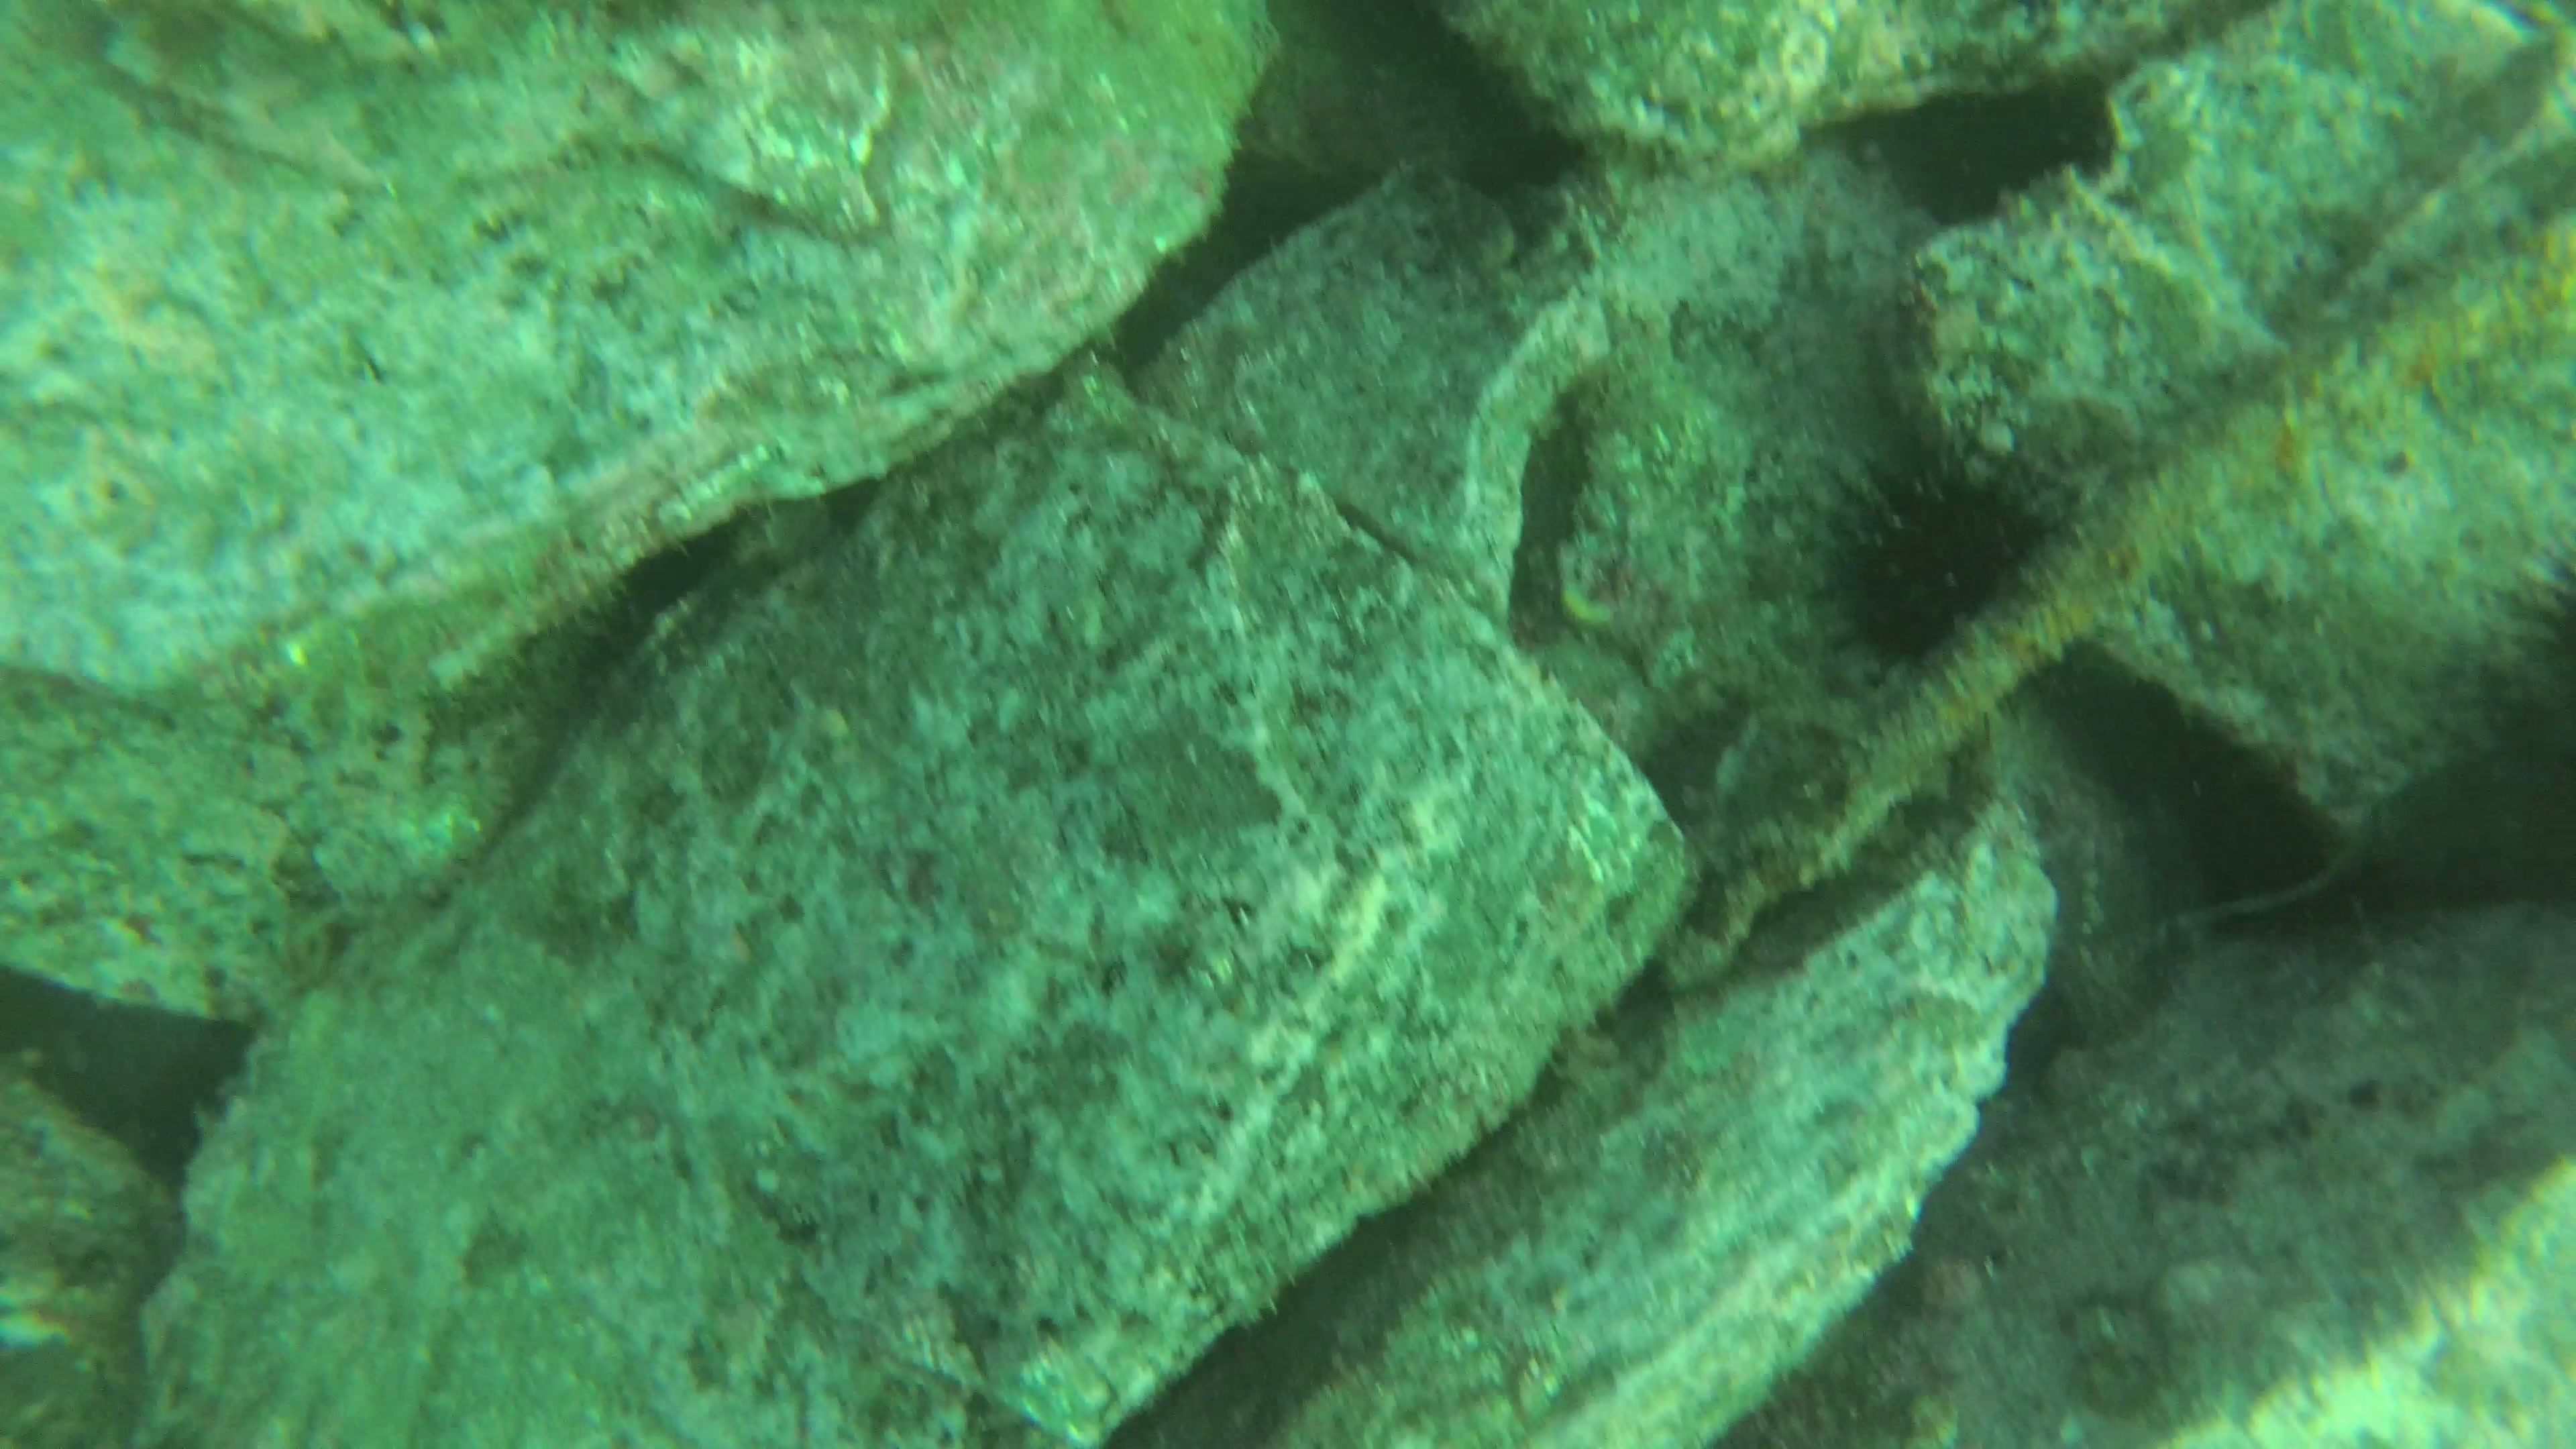echinus: (1803, 426, 2074, 679), (1877, 76, 2123, 235)
